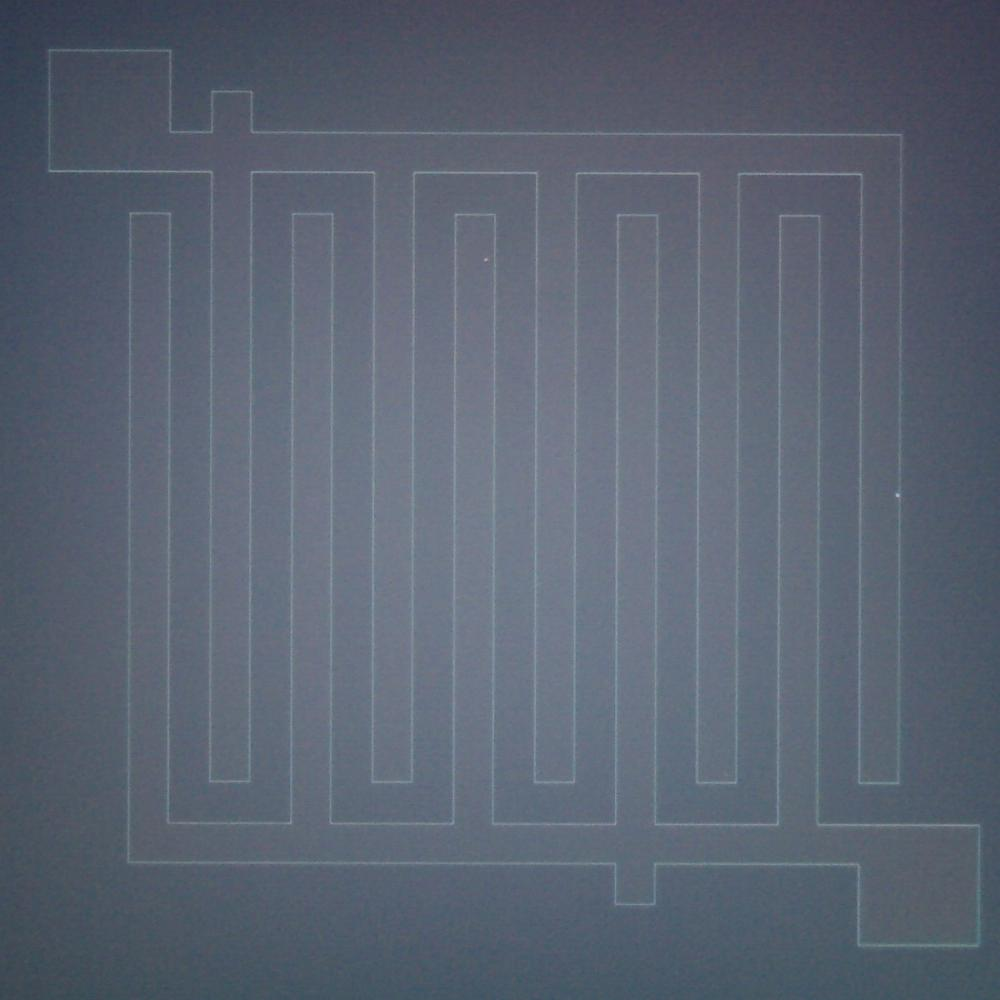dot: (895, 493, 900, 498), (484, 257, 488, 262)
